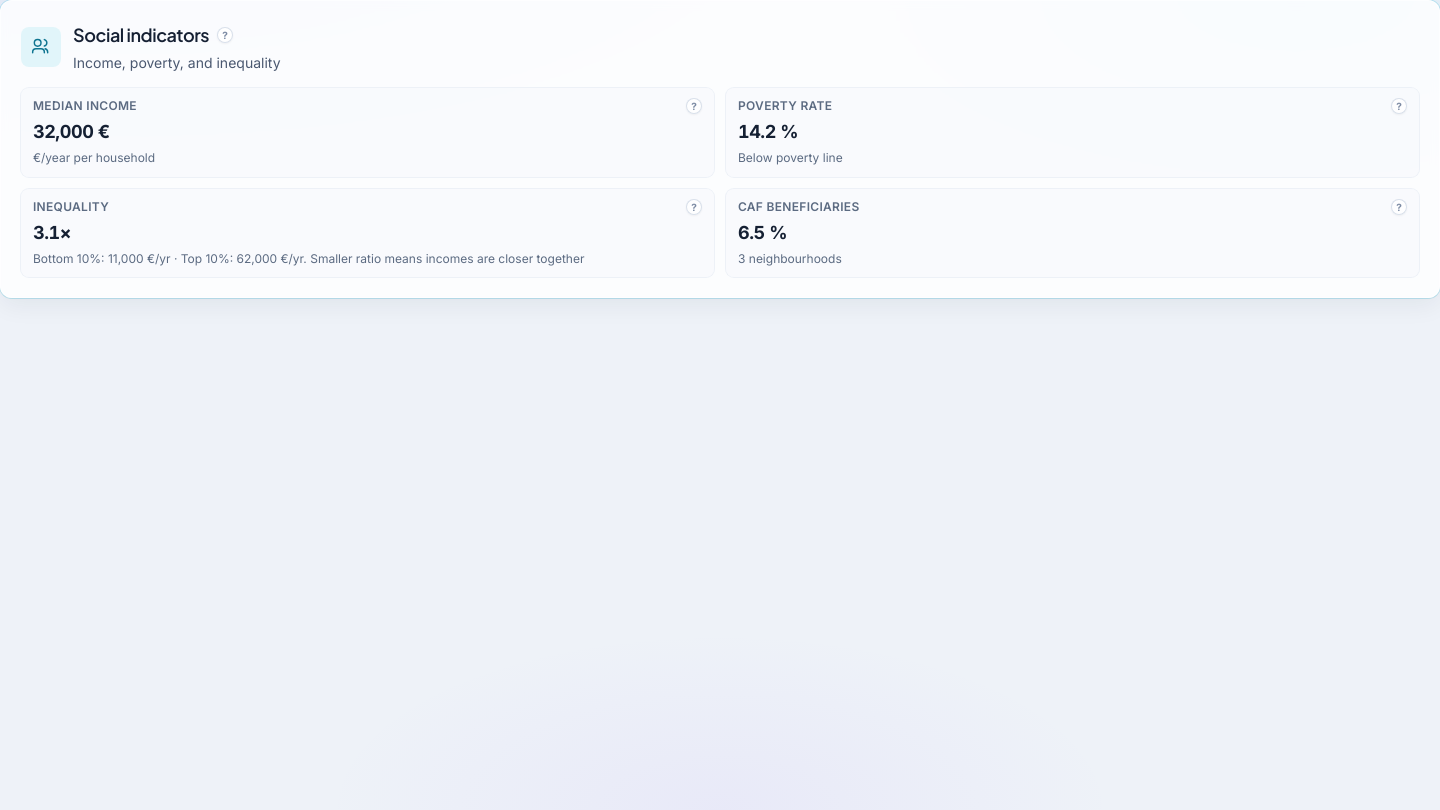
SocialStatCards › renders social indicators
Expected: the text "32,000 €" is shown, [33, 121, 110, 142]
Expected: the text "14.2 %" is shown, [738, 121, 798, 142]
Click the button named "about caf beneficiaries": (1399, 207) [1391, 199, 1407, 215]
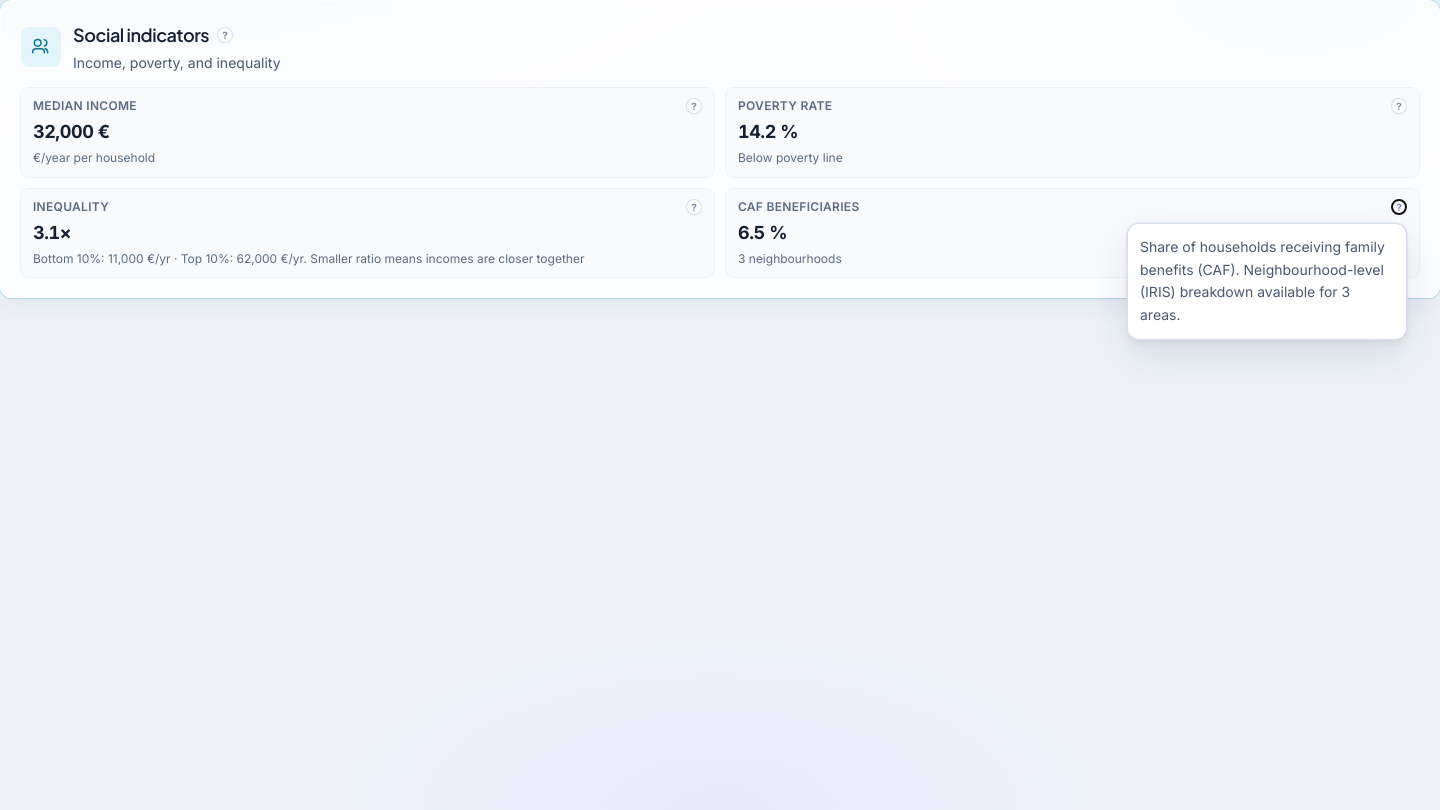
Now the dialog named "caf beneficiaries details" shows "Neighbourhood-level (IRIS) breakdown available for 3 areas.", box [1140, 238, 1385, 323]
